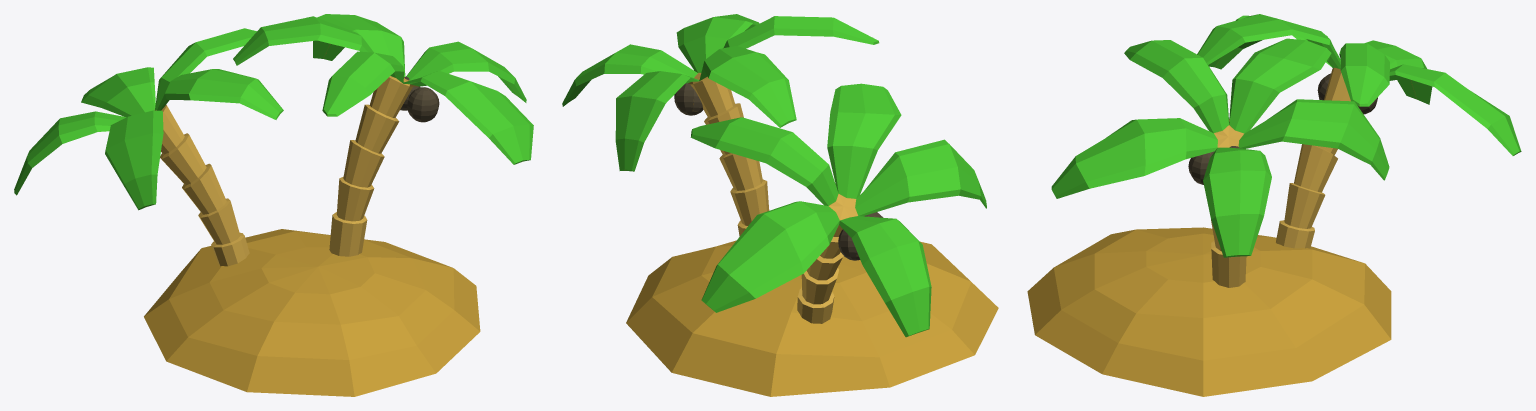
The model's file is islandAndPalm.fbx.
The picture shows the model from 3 angles, left to right: view 1: azimuth 30°, elevation 25°; view 2: azimuth 150°, elevation 25°; view 3: azimuth 270°, elevation 25°; orthographic projection. The views are drawn at different scales.
Visible parts, largest first — view 1: polySurface1; view 2: polySurface1; view 3: polySurface1.
Boxes of the visible parts, x1=… form: polySurface1: x1=14, y1=14, x2=533, y2=396; polySurface1: x1=562, y1=14, x2=998, y2=396; polySurface1: x1=1027, y1=14, x2=1521, y2=396.
Size of the model in its own units: 35.89 by 21.52 by 34.24.
1 material, 1 textured.
